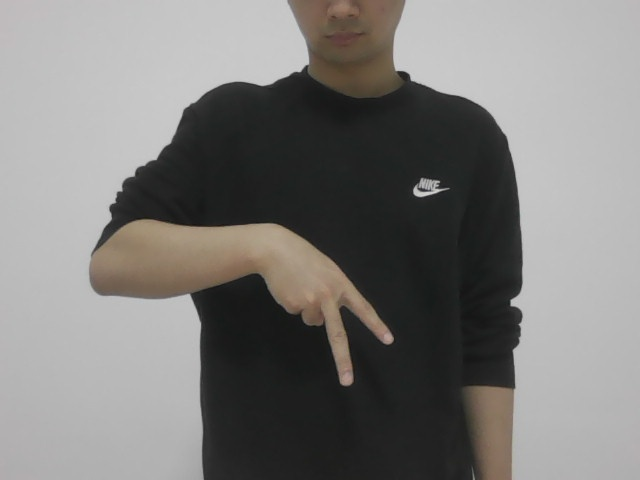walk: (249, 210, 400, 398)
